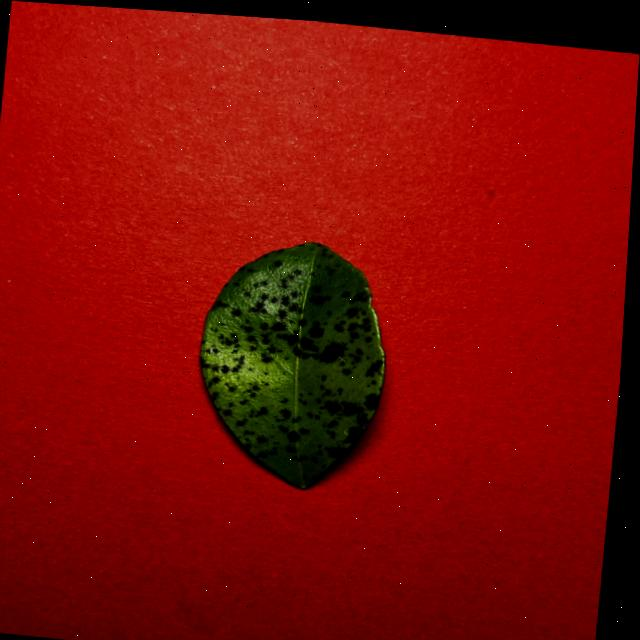sooty_mold: (199, 243, 384, 488)
